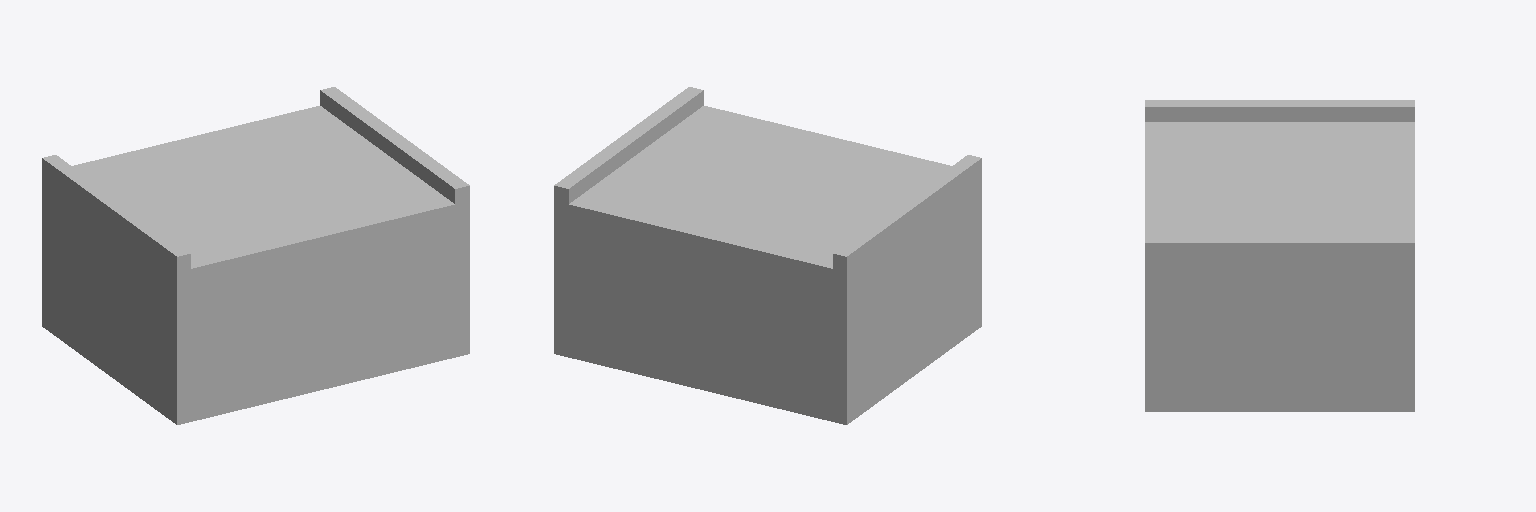
File: Rampa_B2_Pt2.obj
3 renders of one model, left to right at view 1: azimuth 30°, elevation 25°; view 2: azimuth 150°, elevation 25°; view 3: azimuth 270°, elevation 25°, orthographic.
Visible parts, largest first — view 1: Rampa_B2_Pt2_Cube.014; view 2: Rampa_B2_Pt2_Cube.014; view 3: Rampa_B2_Pt2_Cube.014.
Part boxes in pixels (x1,y1,x2,y2): Rampa_B2_Pt2_Cube.014: (42,87,469,424); Rampa_B2_Pt2_Cube.014: (554,87,981,424); Rampa_B2_Pt2_Cube.014: (1145,100,1414,411).
Size of the model in its own units: 2 by 1.1 by 1.6.